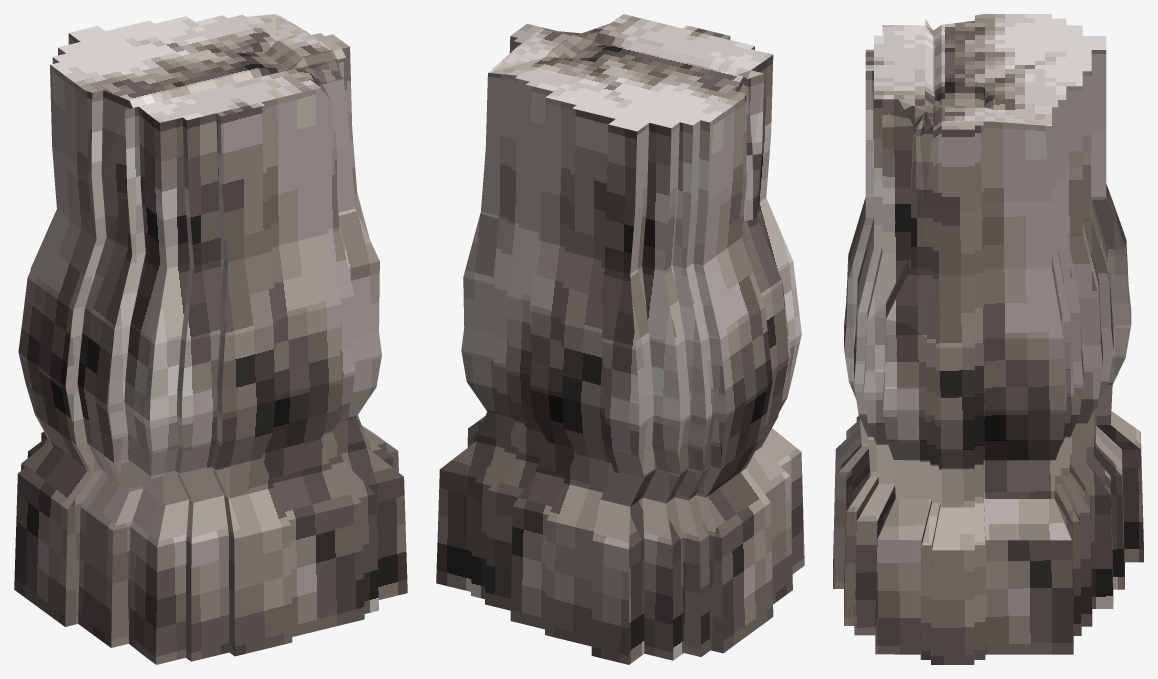
The model's file is monolith_894x00.gltf.
3 renders of one model, left to right at view 1: azimuth 30°, elevation 25°; view 2: azimuth 150°, elevation 25°; view 3: azimuth 270°, elevation 25°, orthographic. The views are drawn at different scales.
Visible parts, largest first — view 1: monolith_894x00; view 2: monolith_894x00; view 3: monolith_894x00.
Boxes of the visible parts, box(x1,y1,x2,y2) form: monolith_894x00: box(14, 14, 407, 664); monolith_894x00: box(436, 14, 804, 664); monolith_894x00: box(833, 14, 1143, 664).
Size of the model in its own units: 2.63 by 4.22 by 2.31.
1 material, 1 textured.
